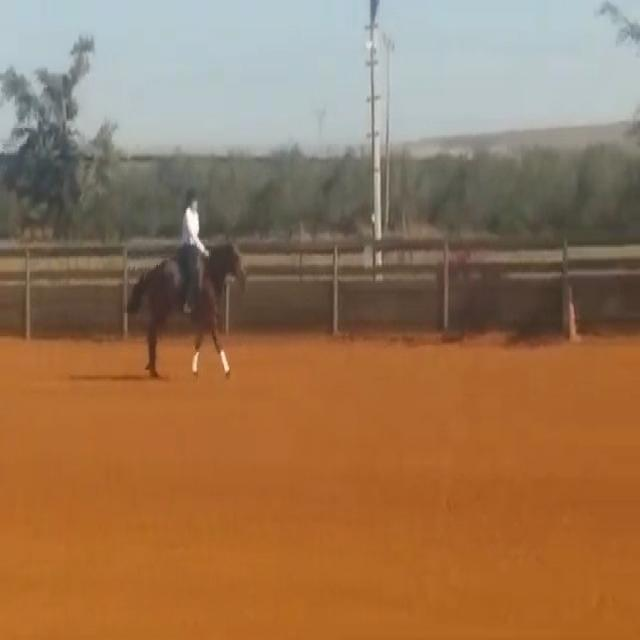horse: (123, 236, 249, 382)
